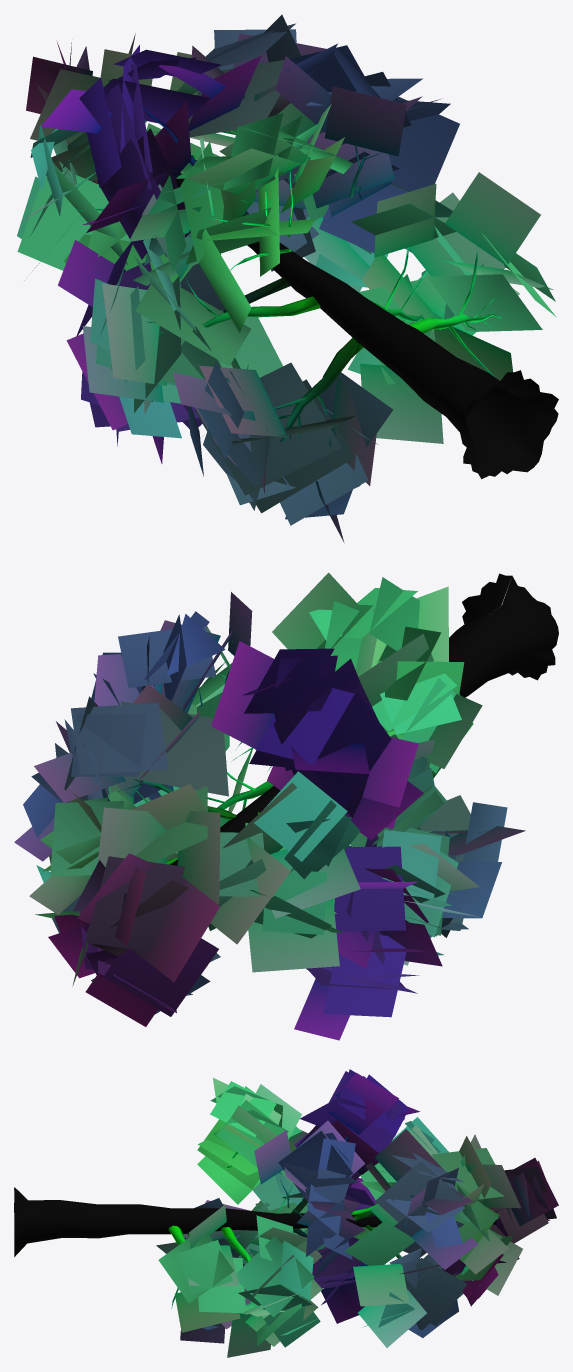
The model's file is Tree_1.fbx.
The picture shows the model from 3 angles, top to bottom: view 1: azimuth 30°, elevation 25°; view 2: azimuth 150°, elevation 25°; view 3: azimuth 270°, elevation 25°; orthographic projection. The views are drawn at different scales.
Parts seen in each view (by area): view 1: Tree_2; view 2: Tree_2; view 3: Tree_2.
Part boxes in pixels (<box>): Tree_2: <box>17,14,558,542</box>; Tree_2: <box>14,572,558,1040</box>; Tree_2: <box>14,1069,558,1357</box>.
Bounding box in the file's own units: 281 × 290 × 543.
